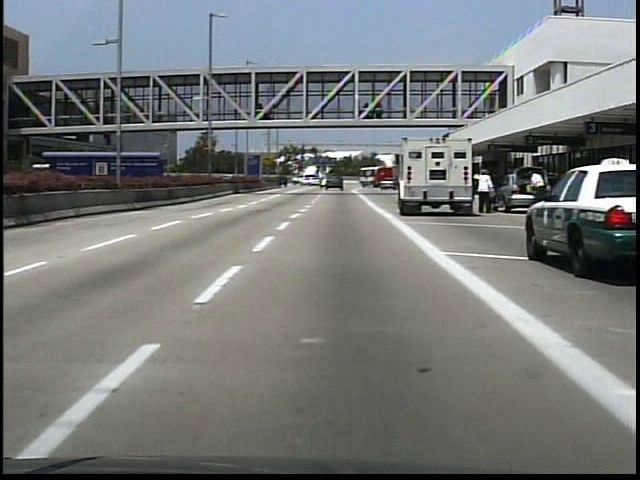person: (475, 163, 501, 217), (523, 166, 545, 214)
